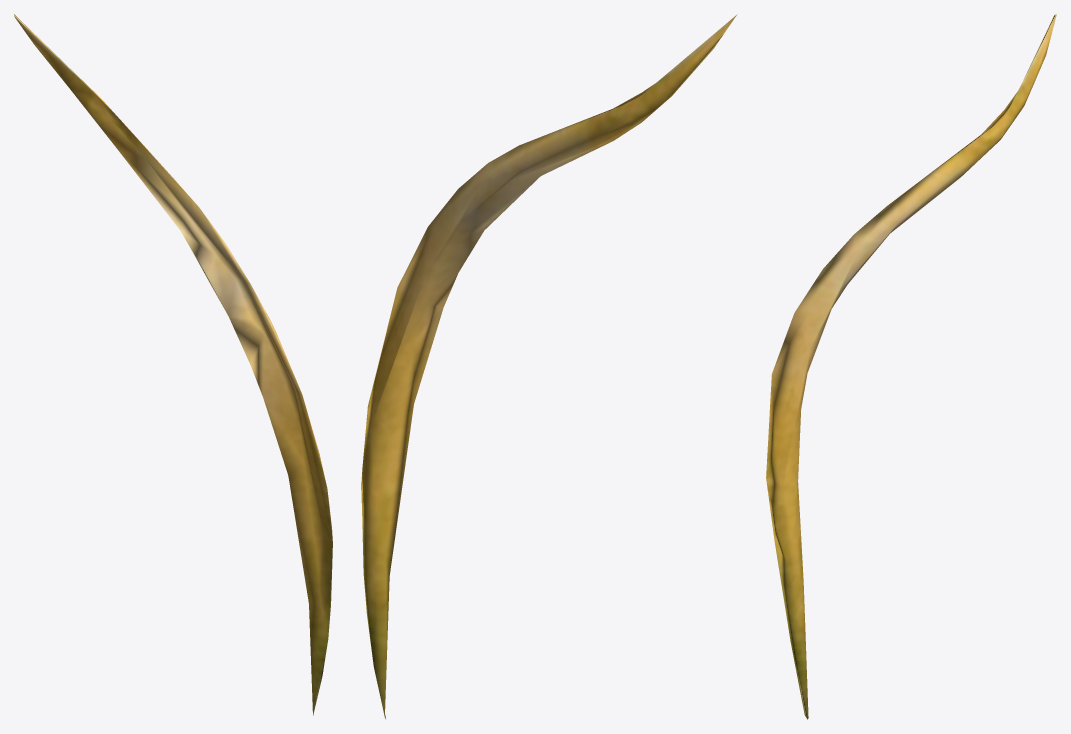
The model's file is ribbonweed_b.glb.
3 renders of one model, left to right at view 1: azimuth 30°, elevation 25°; view 2: azimuth 210°, elevation 25°; view 3: azimuth 270°, elevation 25°, orthographic. The views are drawn at different scales.
Parts seen in each view (by area): view 1: ribbonweed_b; view 2: ribbonweed_b; view 3: ribbonweed_b.
Boxes of the visible parts, x1,y1,x2,y2 form: ribbonweed_b: [14, 14, 332, 715]; ribbonweed_b: [361, 14, 737, 718]; ribbonweed_b: [766, 14, 1056, 719].
Size of the model in its own units: 0.1923 by 0.6702 by 0.2817.
Materials: 1 (1 with a texture image).
